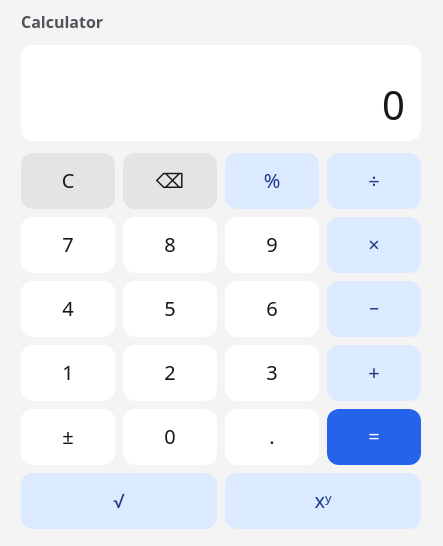
Test: App › chains 2 + 3 × 4 = into two requests and shows 20
The width and height of the screenshot is (443, 546).
Click the button "2" at (170, 373), box left=123, top=345, right=217, bottom=401
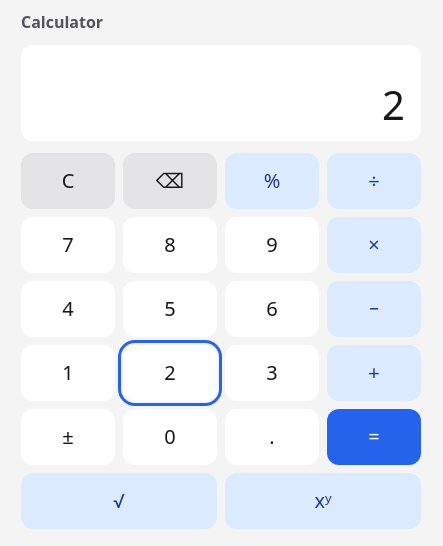
Click the button named "add" at (374, 373), box left=327, top=345, right=421, bottom=401
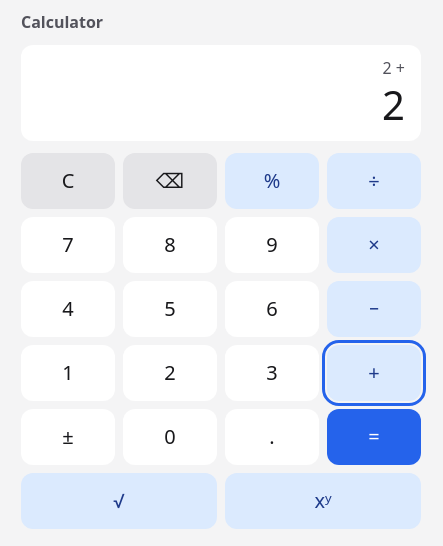
Click the button "3" at (272, 373), box left=225, top=345, right=319, bottom=401
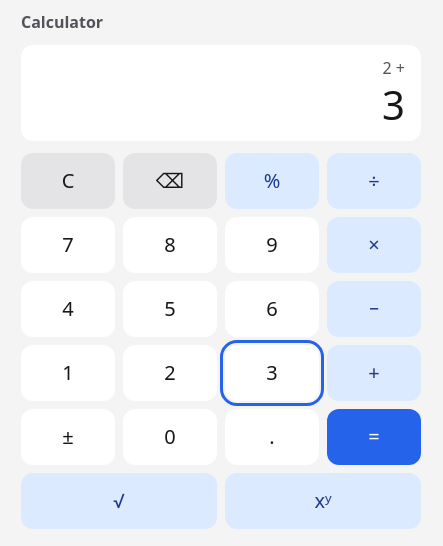
Click the button named "multiply" at (374, 245), box left=327, top=217, right=421, bottom=273
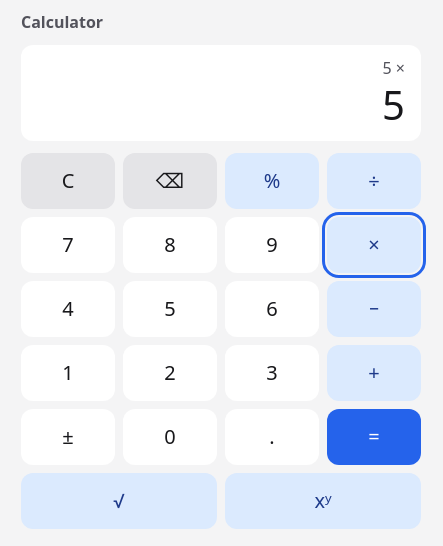
Click the button "4" at (68, 309), box left=21, top=281, right=115, bottom=337
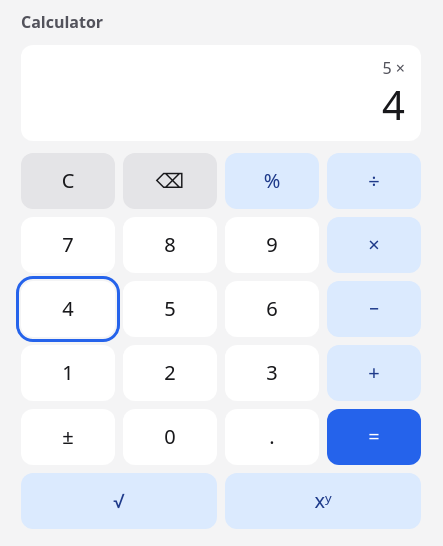
Click the button named "equals" at (374, 437), box left=327, top=409, right=421, bottom=465
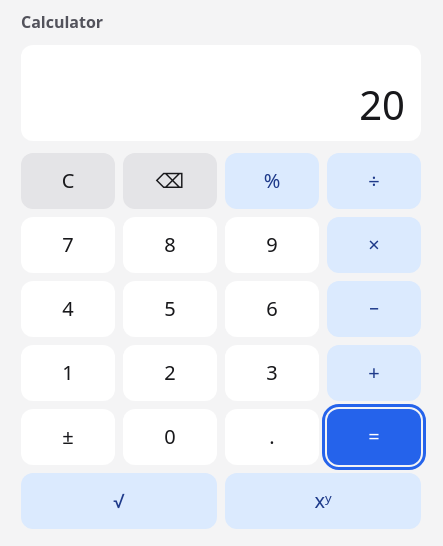
Expected: the text with class "display__main" reads "20", left=359, top=77, right=405, bottom=132
